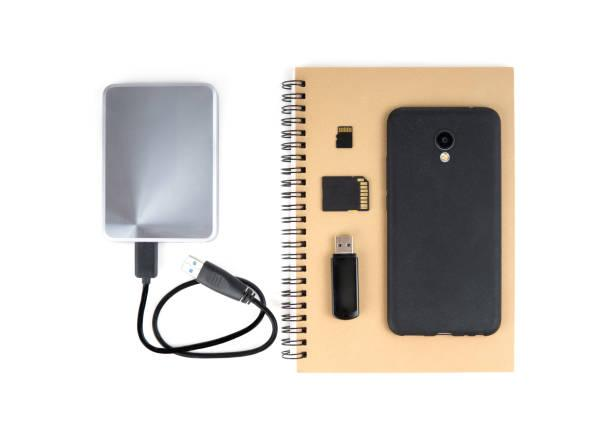HDD: (102, 82, 220, 245)
